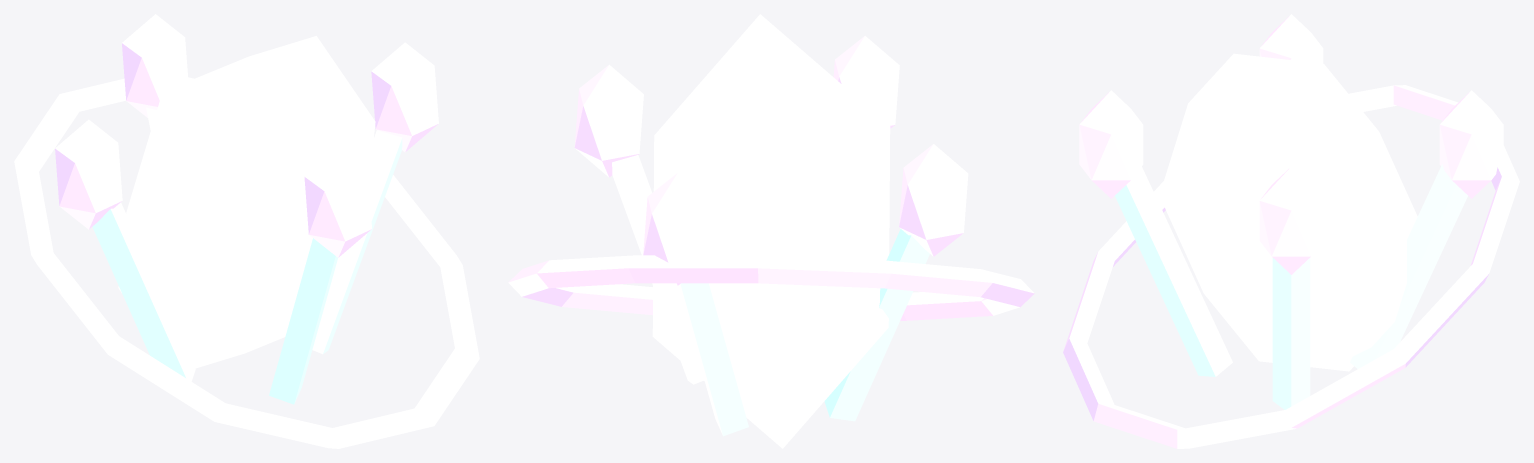
The model's file is spark.glb.
3 views of the same model, side by side, from view 1: azimuth 30°, elevation 25°; view 2: azimuth 150°, elevation 25°; view 3: azimuth 270°, elevation 25° (orthographic). The views are drawn at different scales.
Visible parts, largest first — view 1: SparkCore, ArcaneOrbit, ArcProng_2, ArcNode_3, ArcNode_2, ArcNode_0, ArcProng_3, ArcNode_1, ArcProng_0; view 2: SparkCore, ArcaneOrbit, ArcNode_2, ArcNode_0, ArcProng_1, ArcNode_1, ArcProng_2, ArcNode_3, ArcProng_0; view 3: SparkCore, ArcaneOrbit, ArcProng_3, ArcProng_1, ArcProng_0, ArcNode_0, ArcNode_3, ArcNode_1, ArcNode_2.
Part boxes in pixels (x1,y1,x2,y2): SparkCore: (118, 36, 375, 368); ArcaneOrbit: (14, 77, 479, 448); ArcProng_2: (92, 202, 195, 381); ArcNode_3: (304, 147, 371, 257); ArcNode_2: (55, 119, 122, 229); ArcNode_0: (371, 42, 438, 152); ArcProng_3: (269, 238, 337, 404); ArcNode_1: (122, 14, 188, 117); ArcProng_0: (312, 130, 402, 354); SparkCore: (652, 14, 890, 448); ArcaneOrbit: (508, 255, 1034, 320); ArcNode_2: (899, 144, 968, 256); ArcNode_0: (574, 64, 643, 177); ArcProng_1: (678, 283, 748, 436); ArcNode_1: (643, 173, 712, 285); ArcProng_2: (824, 229, 929, 421); ArcNode_3: (833, 36, 899, 128); ArcProng_0: (612, 155, 703, 384); SparkCore: (1159, 53, 1417, 371); ArcaneOrbit: (1063, 85, 1519, 448); ArcProng_3: (1115, 164, 1232, 376); ArcProng_1: (1350, 164, 1467, 368); ArcProng_0: (1272, 258, 1310, 409); ArcNode_0: (1259, 166, 1323, 274); ArcNode_3: (1079, 90, 1143, 198); ArcNode_1: (1439, 90, 1503, 198); ArcNode_2: (1259, 14, 1323, 63).
Bounding box in the file's own units: 0.655 × 0.5243 × 0.6087.
